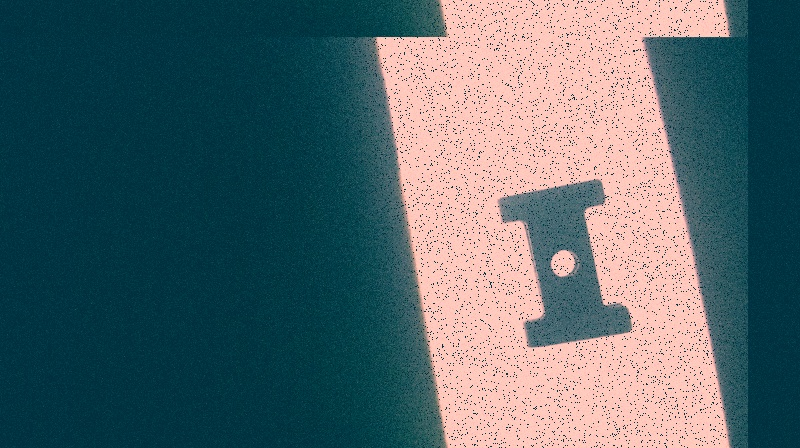O002: (496, 175, 636, 351)
